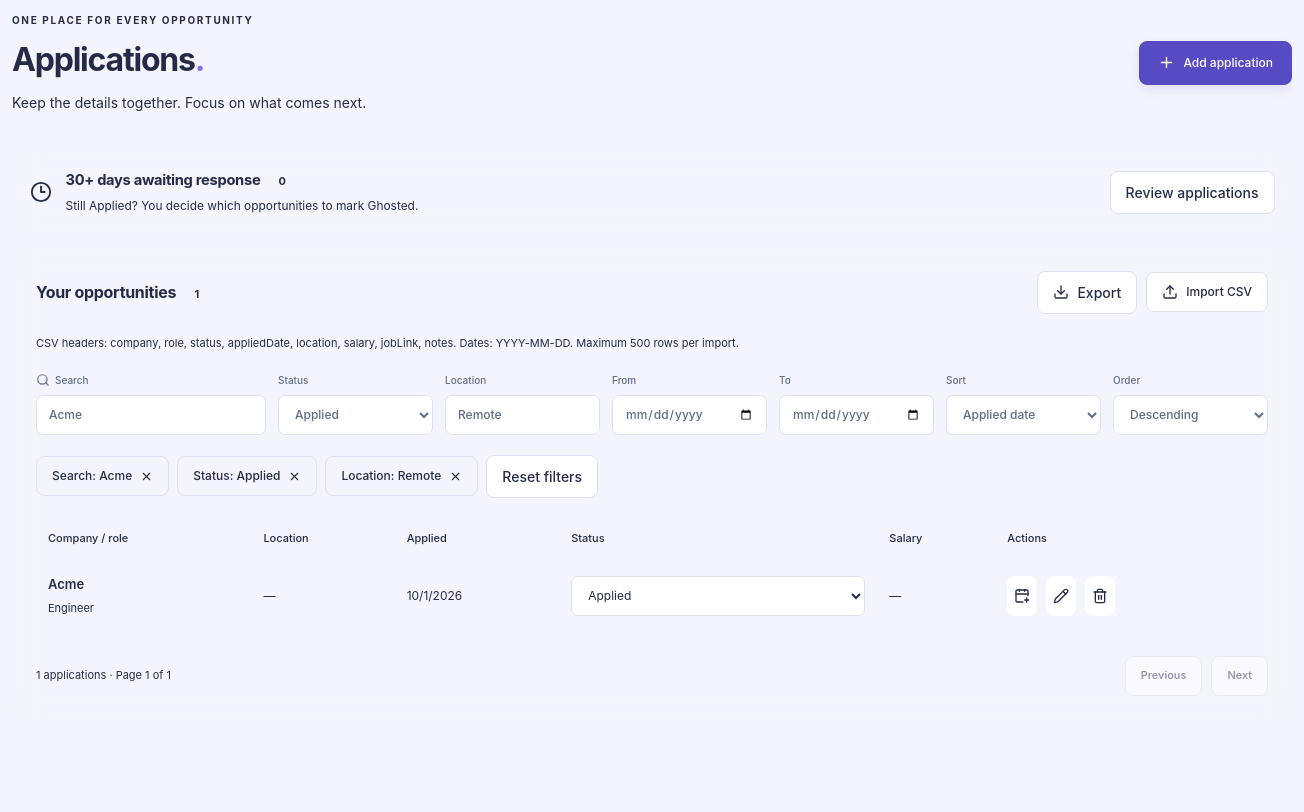
application interactions › removes individual filter chips and resets the search and remaining filters
Step 1. Click the button with aria-label "Remove status filter" → click(247, 476), box [177,456,317,496]
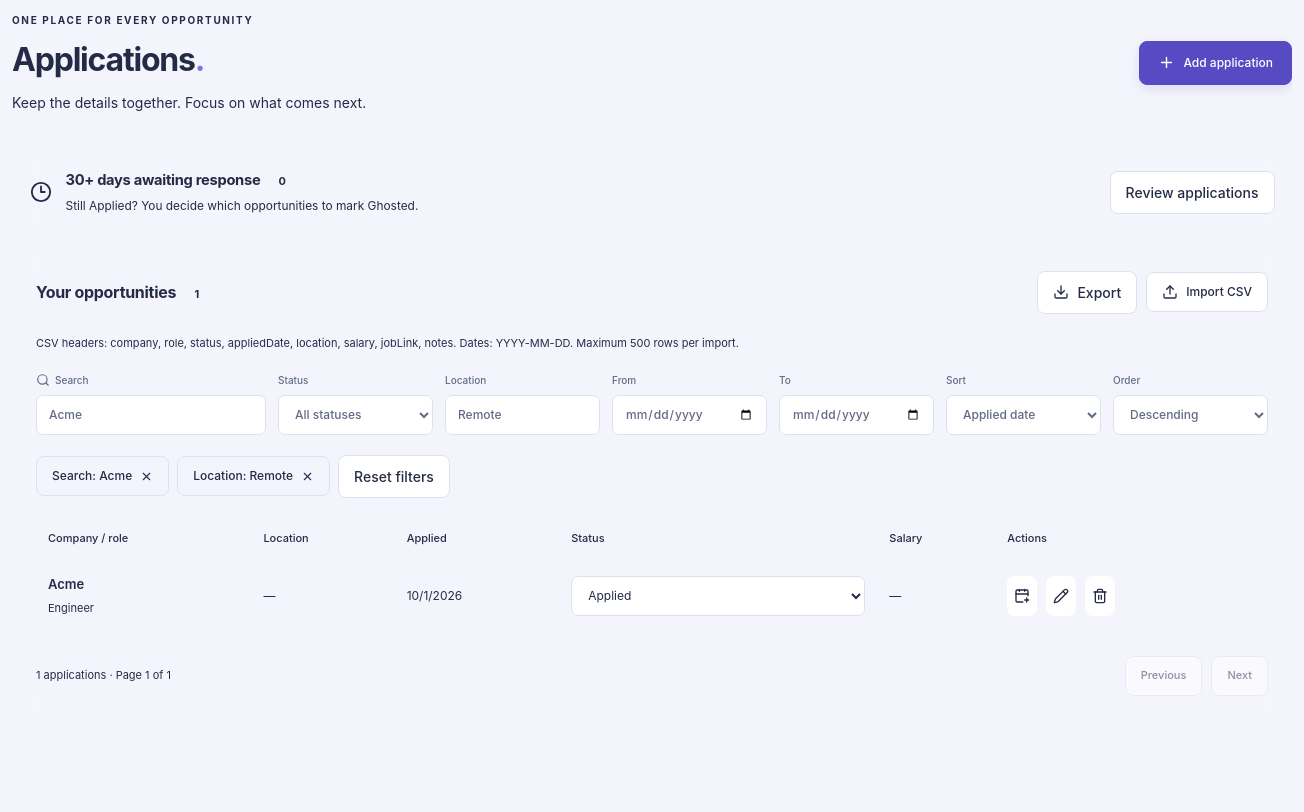
Step 2. Click the button "Reset filters" → click(394, 476), box [338,454,450,498]
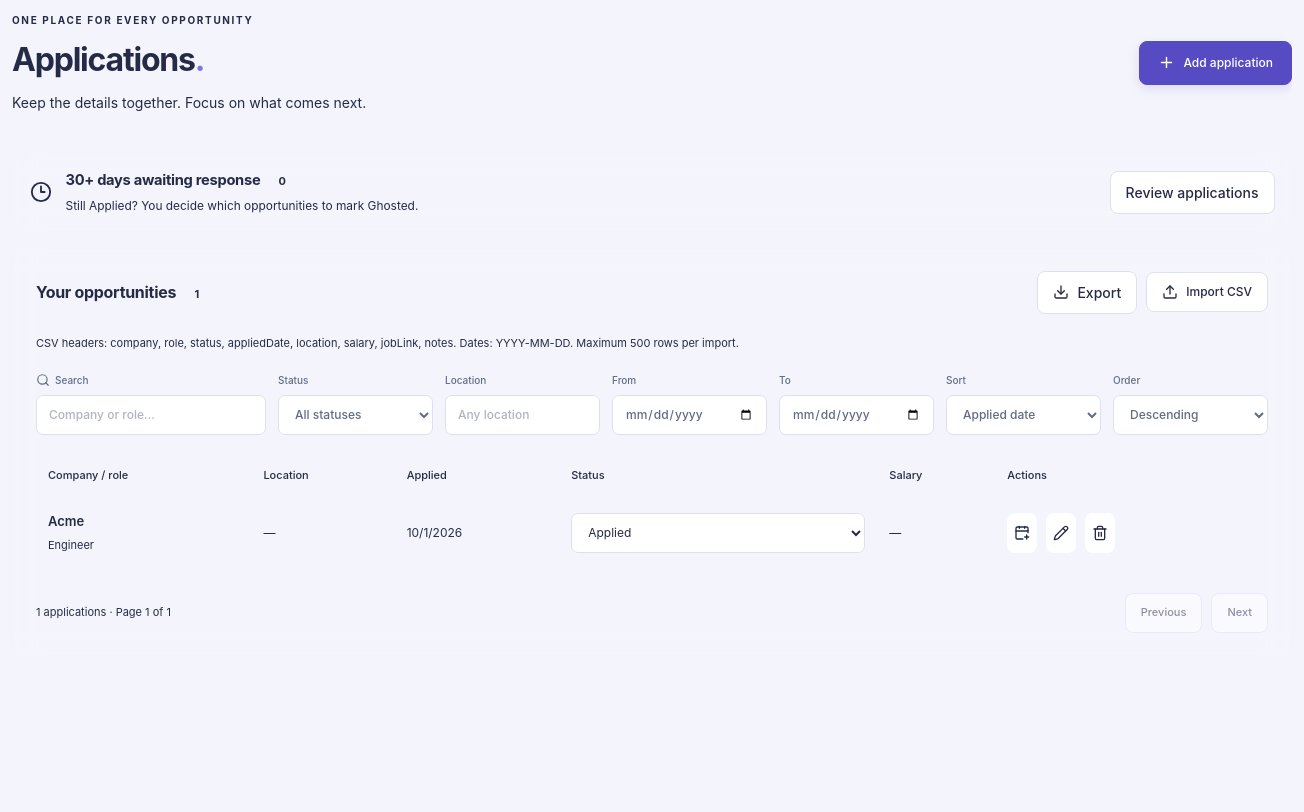
Now the field with placeholder "Company or role…" is empty, box [36,394,266,434]
